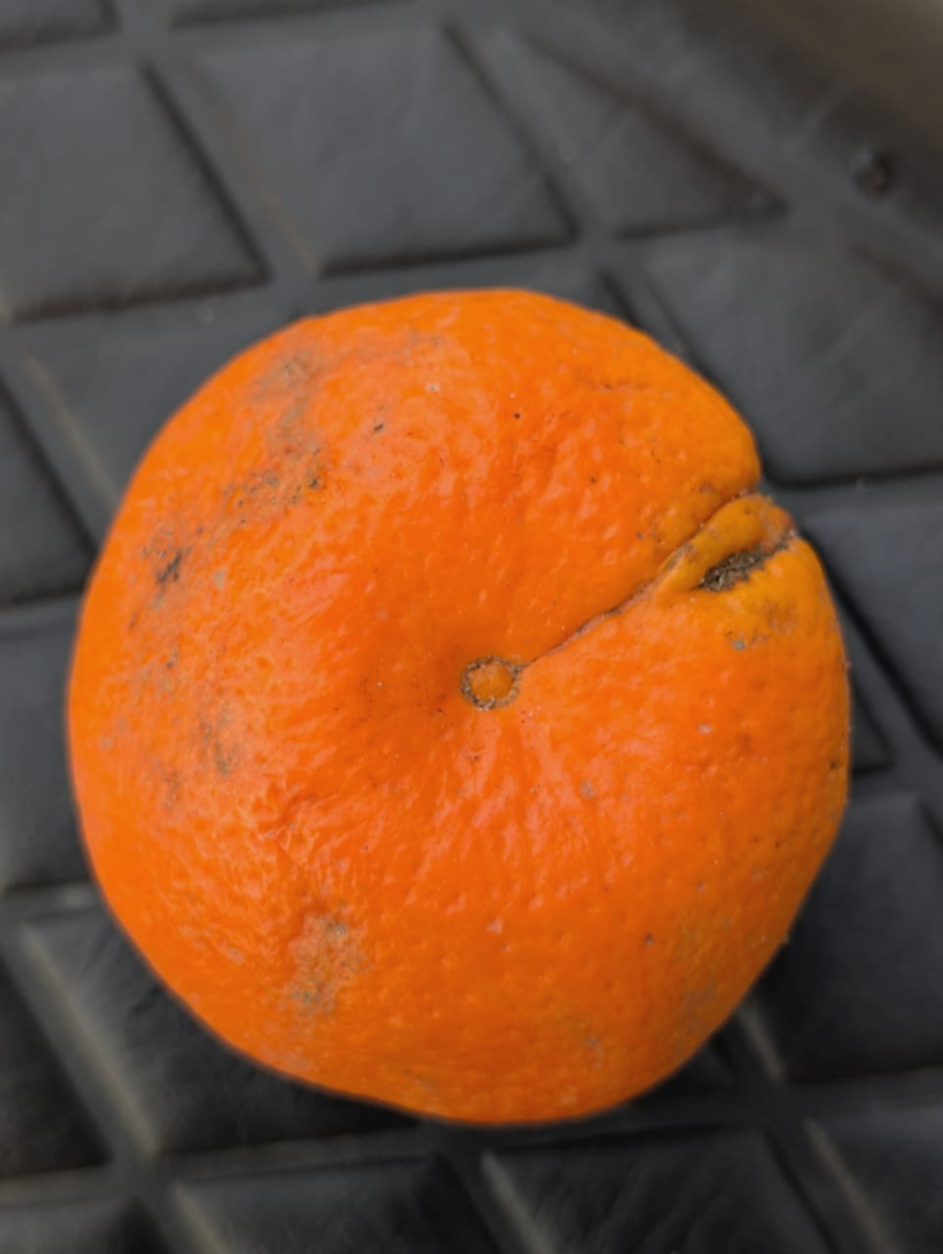orange: (53, 246, 857, 1042)
